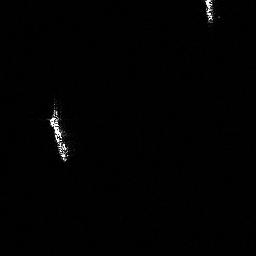ship: (47, 102, 72, 163), (202, 1, 218, 24)
